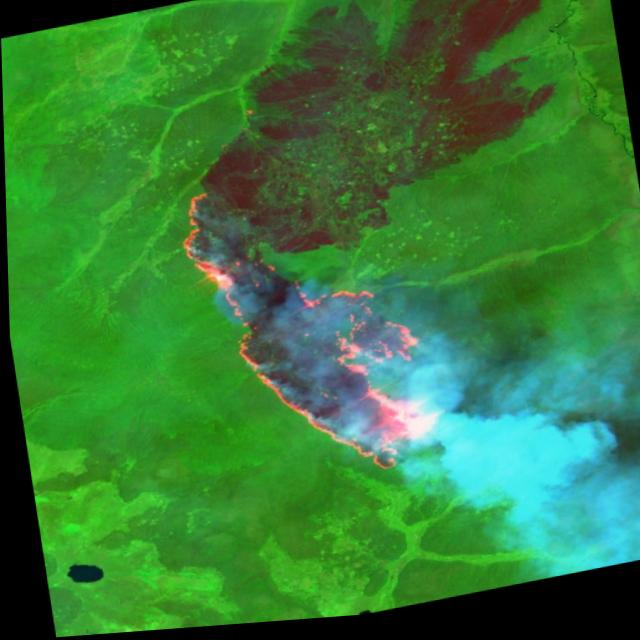fire: (171, 153, 447, 508)
